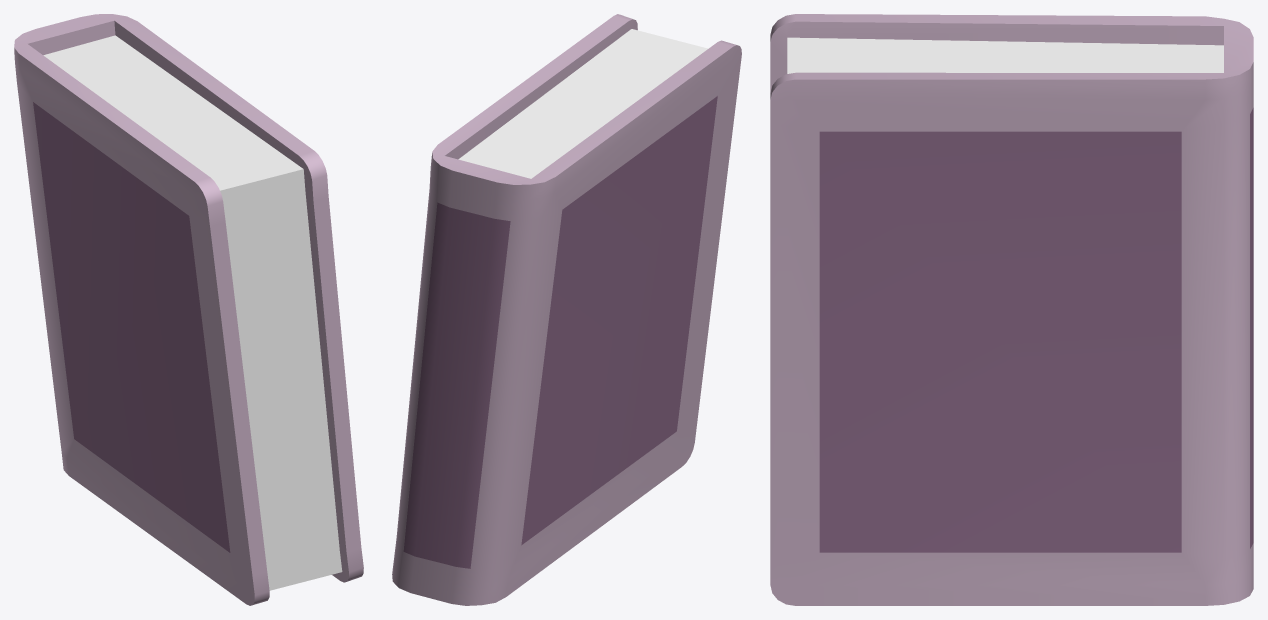
File: book_15.fbx
3 renders of one model, left to right at view 1: azimuth 30°, elevation 25°; view 2: azimuth 150°, elevation 25°; view 3: azimuth 270°, elevation 25°, orthographic. The views are drawn at different scales.
Visible parts, largest first — view 1: book_15; view 2: book_15; view 3: book_15.
Part boxes in pixels (x1,y1,x2,y2): book_15: (14, 14, 363, 605); book_15: (392, 14, 741, 605); book_15: (770, 14, 1253, 605).
Bounding box in the file's own units: 0.1179 × 0.3082 × 0.2658.
